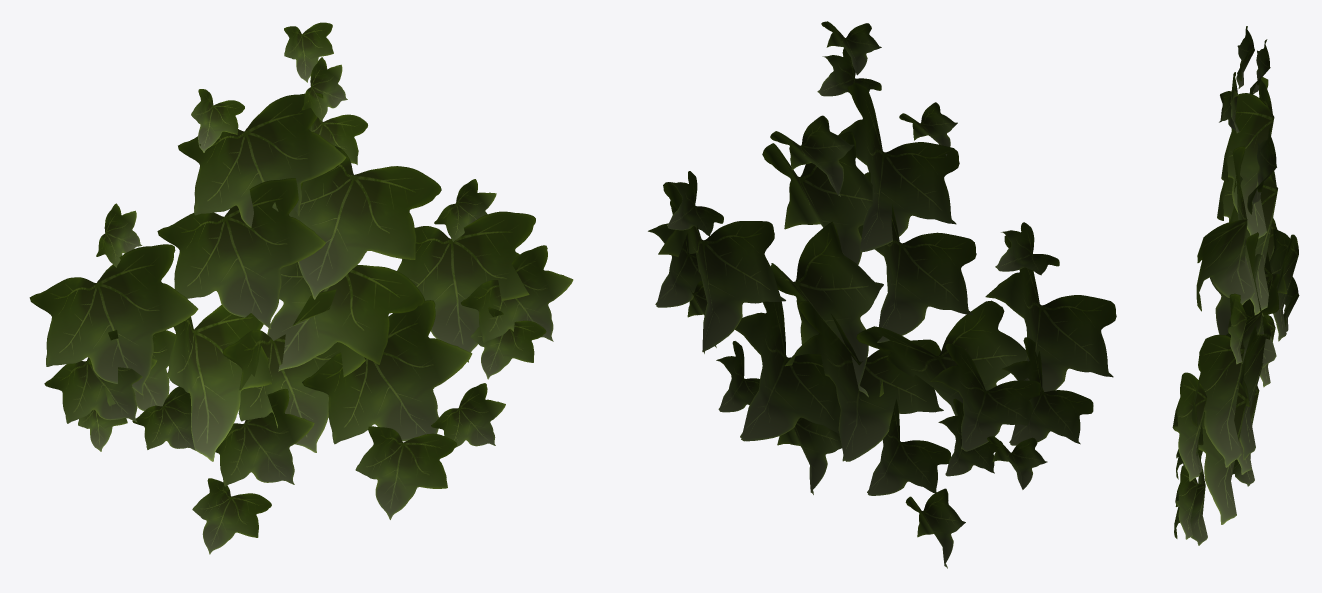
Rendered from ivy_random_cluster.fbx.
3 views of the same model, side by side, from view 1: azimuth 30°, elevation 25°; view 2: azimuth 150°, elevation 25°; view 3: azimuth 270°, elevation 25° (orthographic). The views are drawn at different scales.
Visible parts, largest first — view 1: polySurface88; view 2: polySurface88; view 3: polySurface88.
Boxes of the visible parts, x1,y1,x2,y2 form: polySurface88: (29,22,573,554); polySurface88: (648,21,1116,568); polySurface88: (1172,26,1299,545).
Bounding box in the file's own units: 48 × 46.49 × 11.6.
